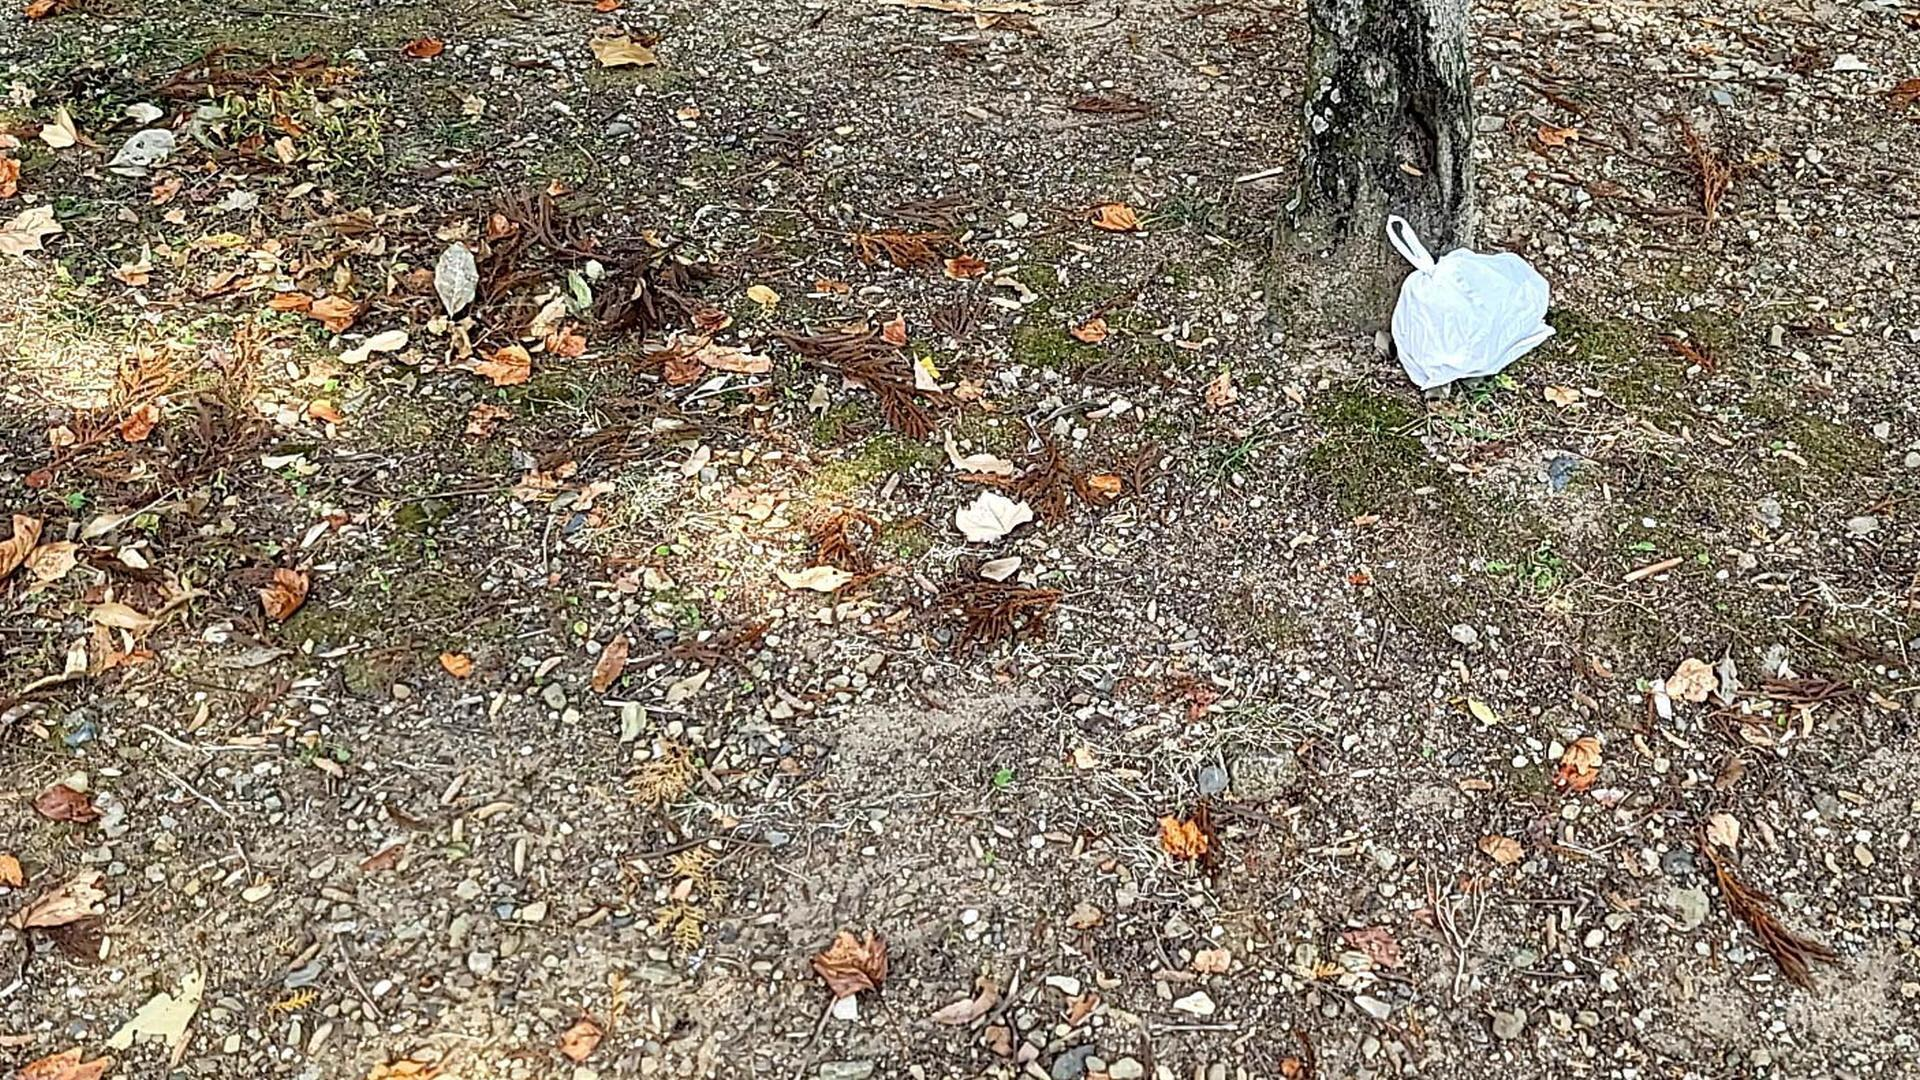white_bag: (1369, 207, 1571, 393)
